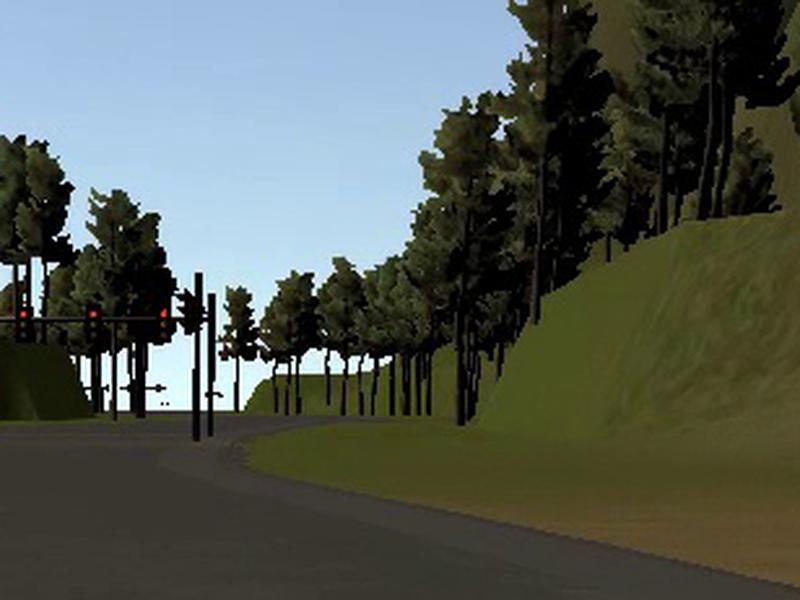Red: (83, 303, 103, 344), (14, 305, 32, 342), (157, 306, 172, 344)
